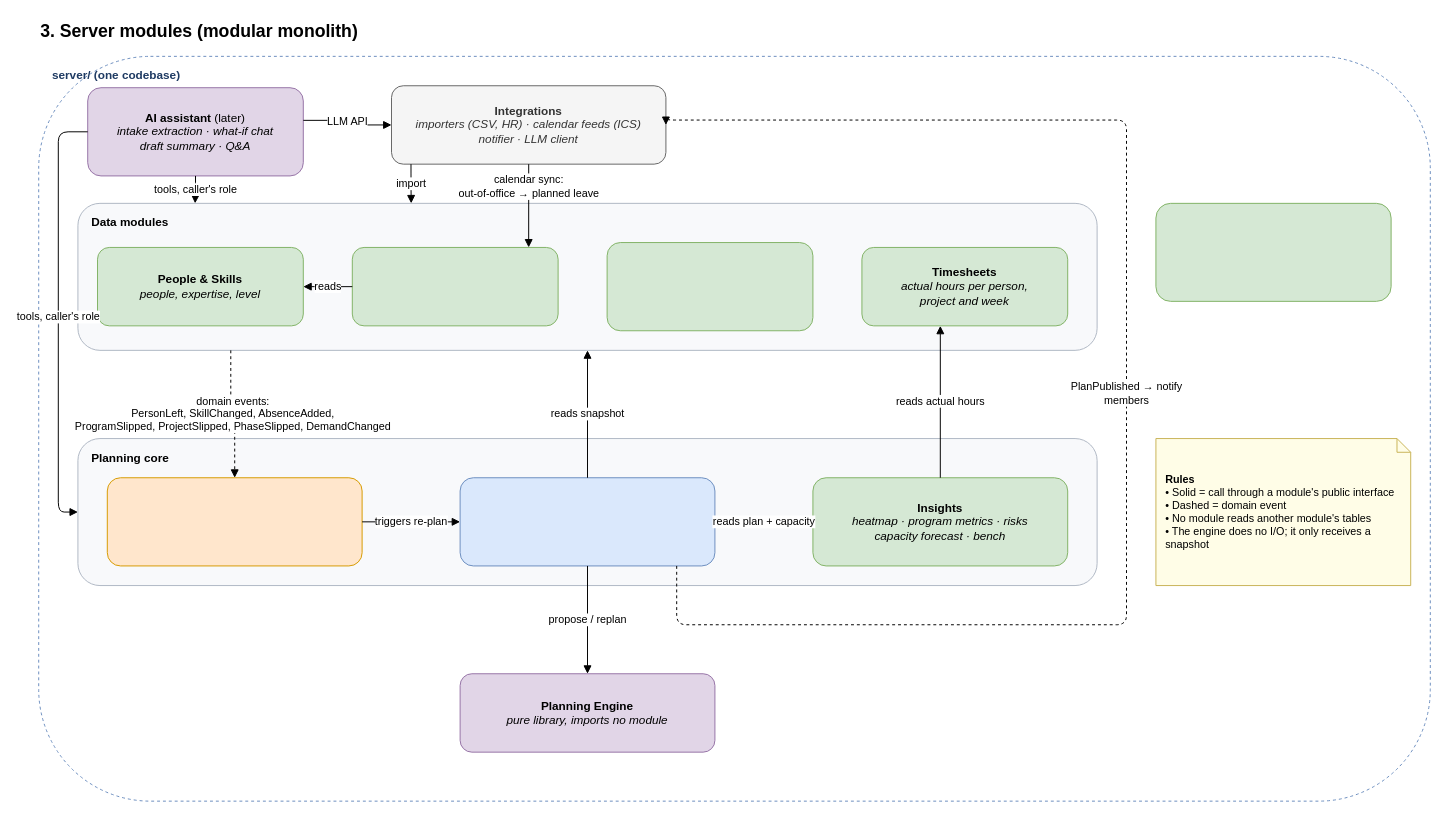
The diagram is 1447 pixels wide and 818 high, and some of its shapes have lost their labels. Here are the shapes that lost their labels. From the top down, the centre of each, then its label:
At point 1273,251: "Identity & Access login, roles, permission checks used by every API route".
At point 454,286: "Availability leave, holidays,".
At point 709,286: "Programs & Projects programs, projects, demand".
At point 234,521: "Change Events records changes, debounces, assesses impact".
At point 587,521: "Planning baseline · staffing draft · scenario accept / publish".
